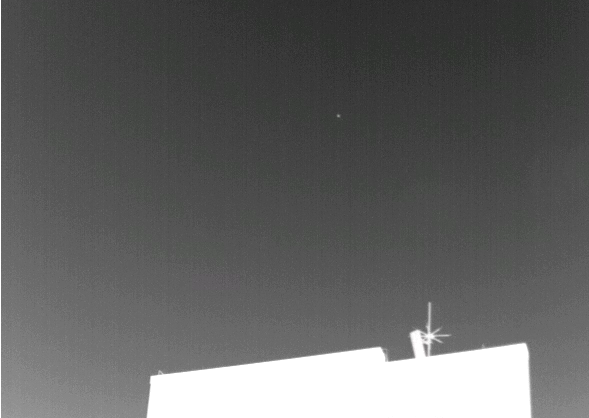dim target: (335, 113, 341, 118)
